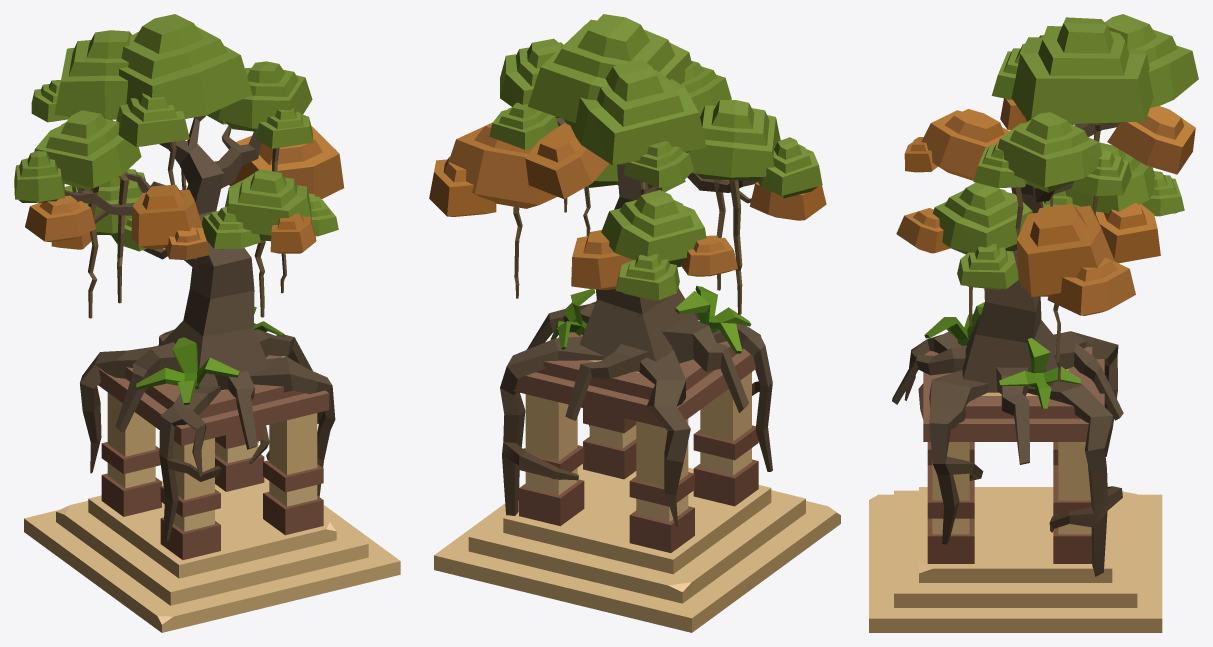
Rendered from ST_Env_Structure_03.fbx.
3 views of the same model, side by side, from view 1: azimuth 30°, elevation 25°; view 2: azimuth 150°, elevation 25°; view 3: azimuth 270°, elevation 25° (orthographic). The views are drawn at different scales.
Visible parts, largest first — view 1: ST_Env_Structure_03; view 2: ST_Env_Structure_03; view 3: ST_Env_Structure_03.
Part boxes in pixels (x1,y1,x2,y2): ST_Env_Structure_03: (14,14,400,632); ST_Env_Structure_03: (429,14,840,632); ST_Env_Structure_03: (869,14,1198,632).
Bounding box in the file's own units: 11.9 × 16.84 × 9.28.
